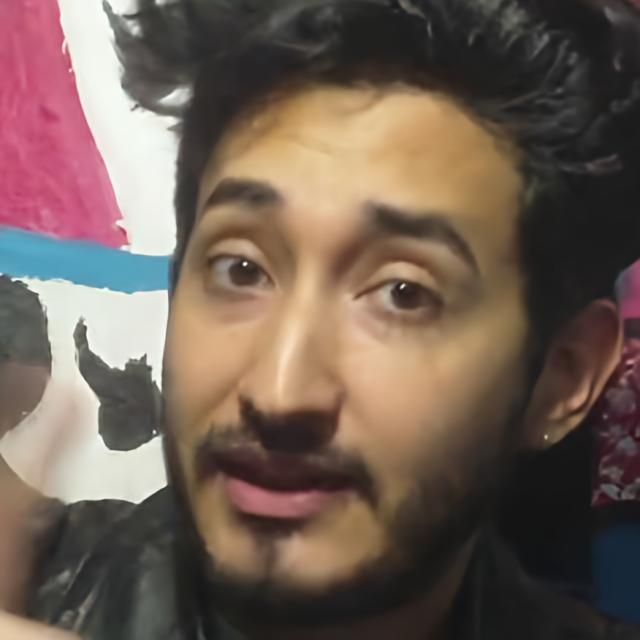surprise: (165, 72, 531, 592)
